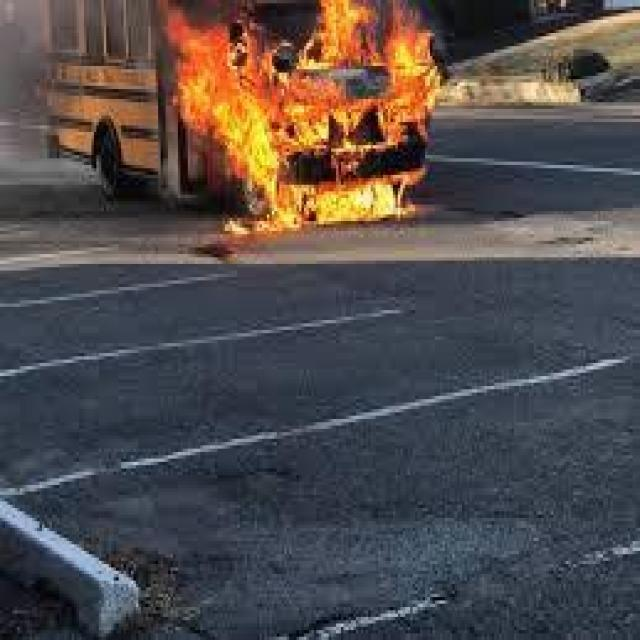Fire: (162, 0, 456, 238)
